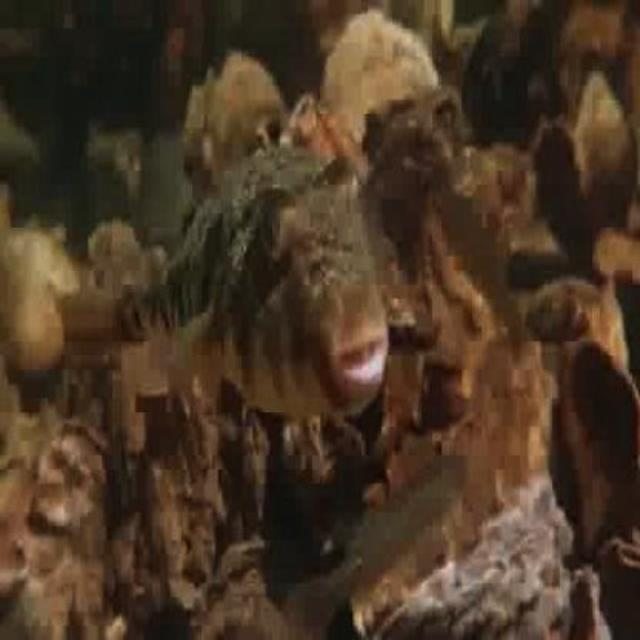Oyster-Closed: (462, 277, 629, 510), (377, 479, 573, 638), (322, 11, 435, 130), (196, 541, 328, 638), (199, 59, 279, 187), (577, 76, 638, 224), (33, 419, 110, 530), (365, 112, 458, 199), (286, 94, 367, 180), (0, 270, 64, 372), (6, 229, 82, 295), (600, 535, 638, 638), (180, 84, 210, 199)
Oyster-Open: (418, 195, 499, 351)
